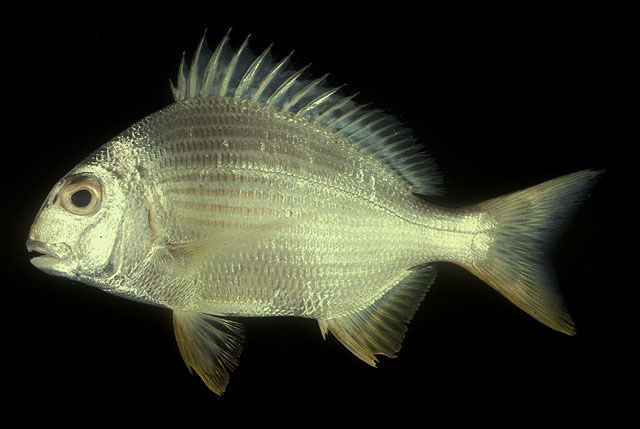fish: (26, 28, 605, 398)
